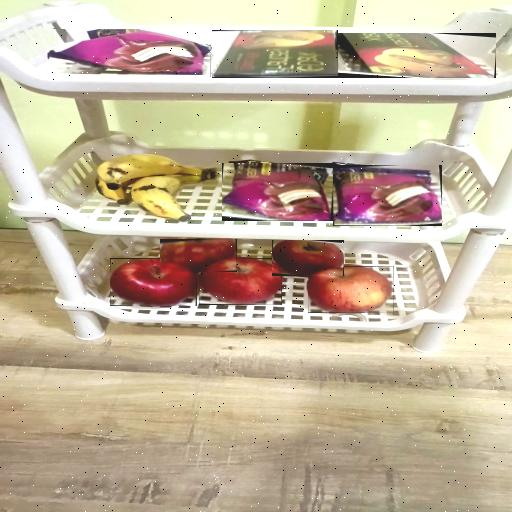Apple: (110, 258, 197, 306), (308, 266, 394, 313), (199, 258, 282, 305), (272, 240, 344, 276), (160, 239, 237, 272)
Choco Fills: (337, 34, 496, 80), (212, 30, 338, 78)
Choco Pie: (48, 30, 210, 78), (333, 165, 442, 226), (222, 163, 333, 221)
